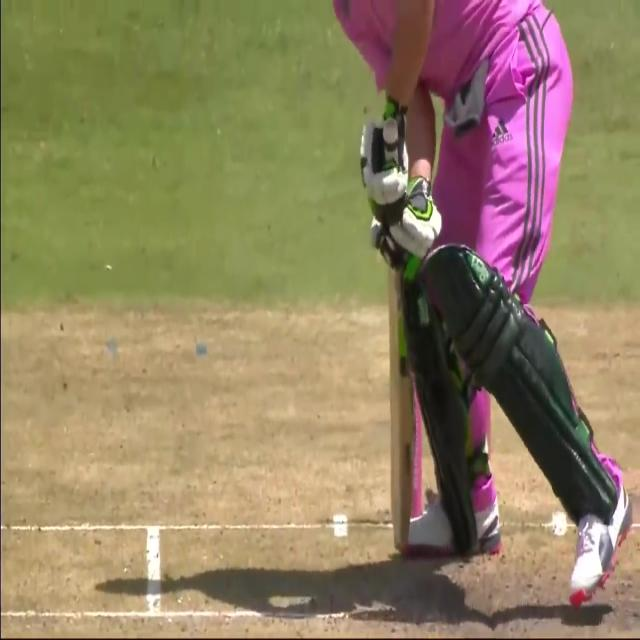Ball: (355, 0, 616, 571)
